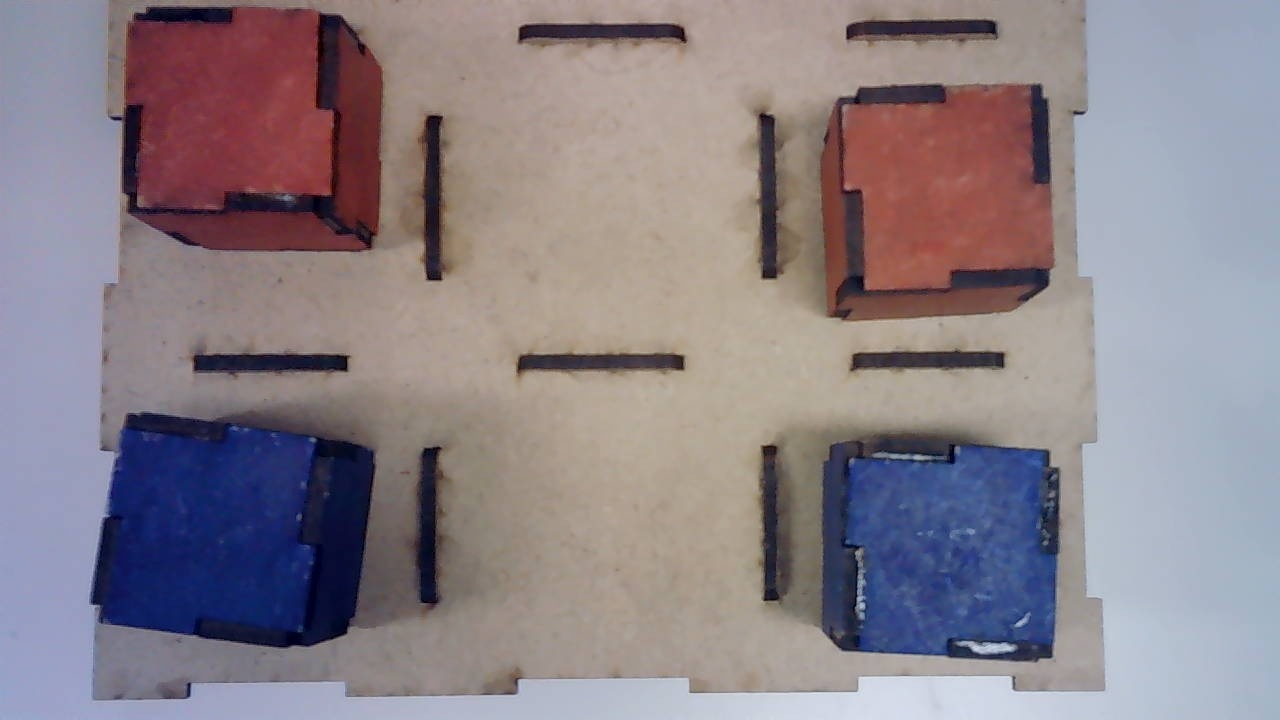blue box: (86, 408, 380, 647), (823, 437, 1065, 666)
red box: (118, 4, 385, 251), (823, 82, 1055, 322)
